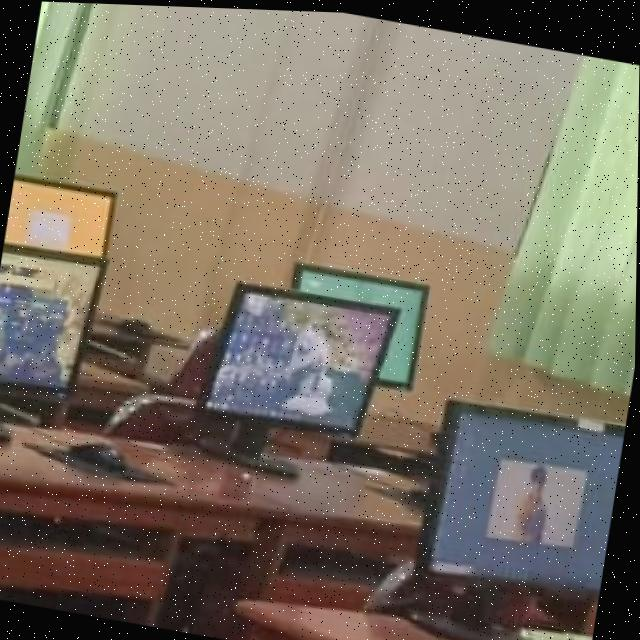onscreen: (422, 399, 625, 587), (206, 282, 397, 428), (299, 266, 428, 385), (0, 252, 104, 389), (6, 176, 116, 256)
